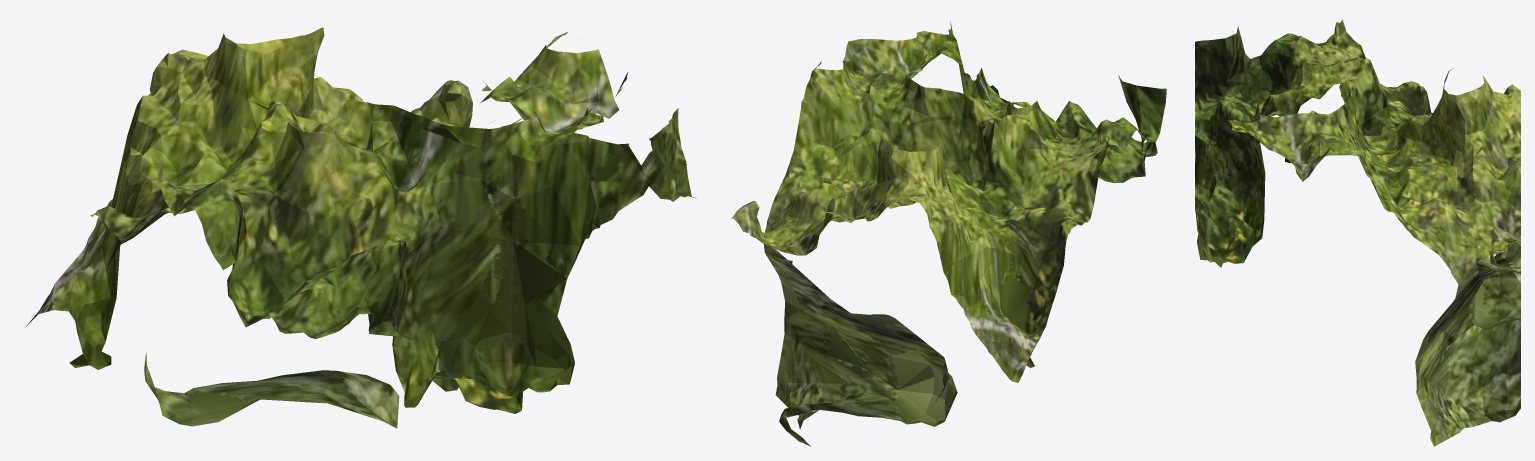
3 views of the same model, side by side, from view 1: azimuth 30°, elevation 25°; view 2: azimuth 150°, elevation 25°; view 3: azimuth 270°, elevation 25° (orthographic). The views are drawn at different scales.
Bounding box in the file's own units: 2.95 × 2.95 × 2.95.
Materials: 5 (5 with a texture image).
